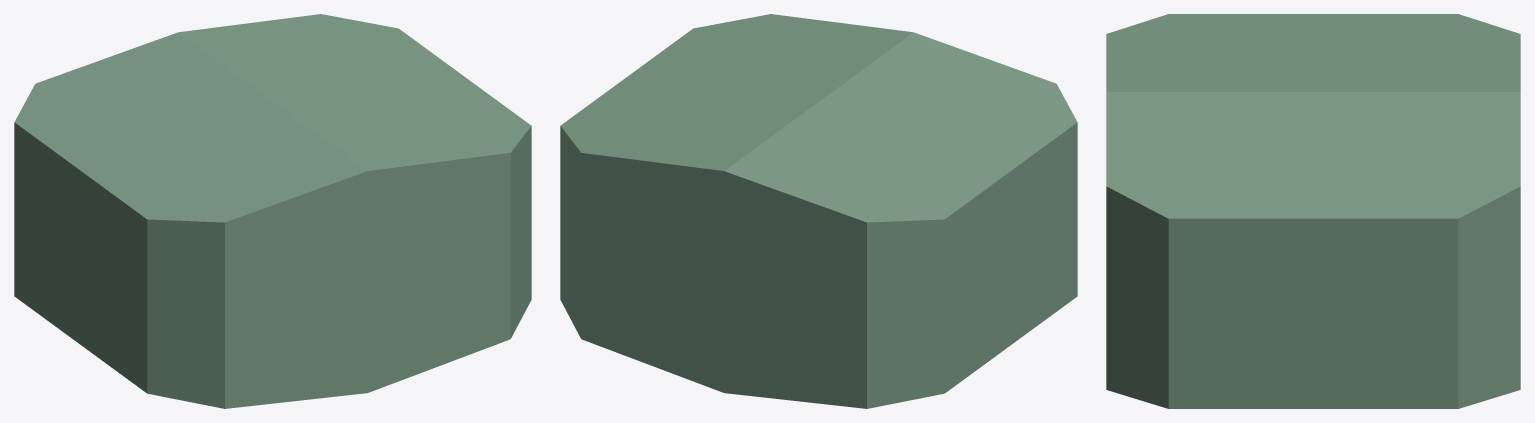
Rendered from smSnekJoint_Lrg.fbx.
3 renders of one model, left to right at view 1: azimuth 30°, elevation 25°; view 2: azimuth 150°, elevation 25°; view 3: azimuth 270°, elevation 25°, orthographic. The views are drawn at different scales.
Visible parts, largest first — view 1: smSnekJoint_Lrg; view 2: smSnekJoint_Lrg; view 3: smSnekJoint_Lrg.
Boxes of the visible parts, x1,y1,x2,y2 form: smSnekJoint_Lrg: [14, 14, 531, 408]; smSnekJoint_Lrg: [560, 14, 1077, 408]; smSnekJoint_Lrg: [1106, 14, 1520, 408].
Bounding box in the file's own units: 21.04 × 11.61 × 17.98.
